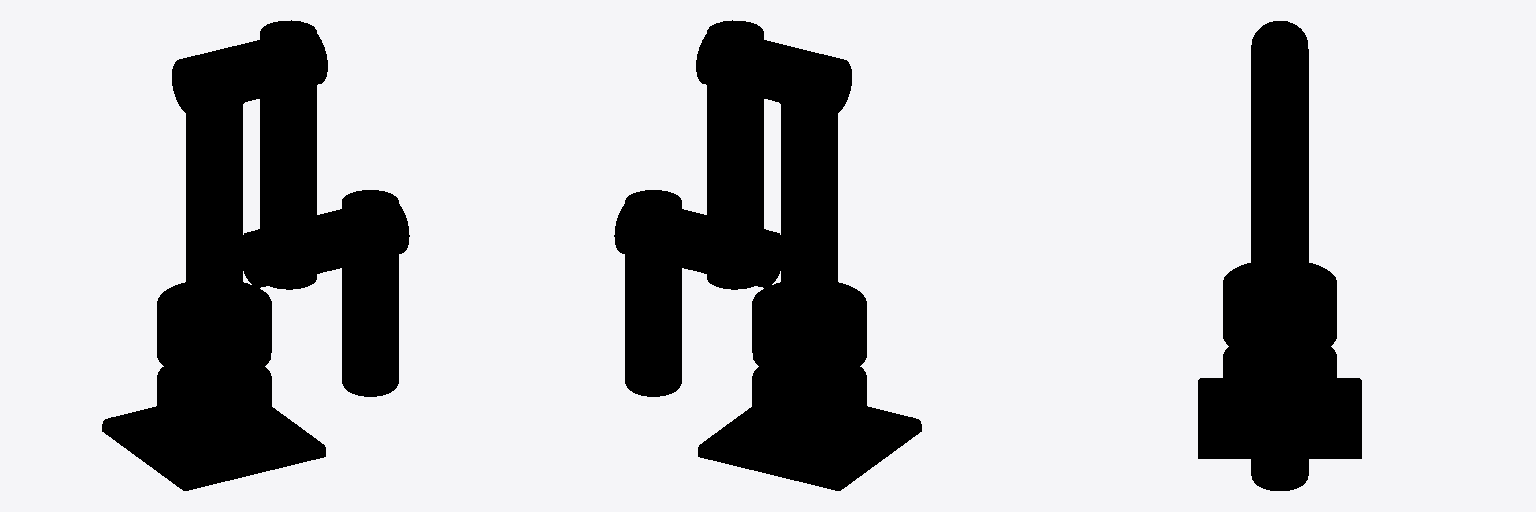
robot.urdf — manipulator:
<?xml version="1.0" encoding="utf-8"?>
<!-- This URDF was automatically created by SolidWorks to URDF Exporter! Originally created by Stephen Brawner ([email redacted]) 
     Commit Version: 1.6.0-1-g15f4949  Build Version: 1.6.7594.29634
     For more information, please see http://wiki.ros.org/sw_urdf_exporter -->
<robot
  name="manipulator">
  <link
    name="base_link">
    <inertial>
      <origin
        xyz="-8.9967E-18 0.082909 3.663E-20"
        rpy="0 0 0" />
      <mass
        value="3.2518" />
      <inertia
        ixx="0.017546"
        ixy="-1.8589E-18"
        ixz="-8.2104E-19"
        iyy="0.010844"
        iyz="3.1978E-20"
        izz="0.017546" />
    </inertial>
    <visual>
      <origin
        xyz="0 0 0"
        rpy="0 0 0" />
      <geometry>
        <mesh
          filename="package://manipulator/meshes/base_link.STL" />
      </geometry>
      <material
        name="">
        <color
          rgba="0 0 0 1" />
      </material>
    </visual>
    <collision>
      <origin
        xyz="0 0 0"
        rpy="0 0 0" />
      <geometry>
        <mesh
          filename="package://manipulator/meshes/base_link.STL" />
      </geometry>
    </collision>
  </link>
  <link
    name="link1">
    <inertial>
      <origin
        xyz="6.2597E-09 0.17473 -0.00017925"
        rpy="0 0 0" />
      <mass
        value="1.3146" />
      <inertia
        ixx="0.012676"
        ixy="-1.1495E-12"
        ixz="9.8141E-10"
        iyy="0.00089209"
        iyz="2.9519E-05"
        izz="0.012621" />
    </inertial>
    <visual>
      <origin
        xyz="0 0 0"
        rpy="0 0 0" />
      <geometry>
        <mesh
          filename="package://manipulator/meshes/link1.STL" />
      </geometry>
      <material
        name="">
        <color
          rgba="0 0 0 1" />
      </material>
    </visual>
    <collision>
      <origin
        xyz="0 0 0"
        rpy="0 0 0" />
      <geometry>
        <mesh
          filename="package://manipulator/meshes/link1.STL" />
      </geometry>
    </collision>
  </link>
  <joint
    name="joint0"
    type="continuous">
    <origin
      xyz="0 0 0.19"
      rpy="1.5708 0 1.5708" />
    <parent
      link="base_link" />
    <child
      link="link1" />
    <axis
      xyz="0 1 0" />
  </joint>
  <link
    name="link2">
    <inertial>
      <origin
        xyz="0.090667 -0.12397 2.5675E-07"
        rpy="0 0 0" />
      <mass
        value="1.5823" />
      <inertia
        ixx="0.01719"
        ixy="0.00076592"
        ixz="3.3275E-10"
        iyy="0.0014992"
        iyz="2.4054E-09"
        izz="0.017664" />
    </inertial>
    <visual>
      <origin
        xyz="0 0 0"
        rpy="0 0 0" />
      <geometry>
        <mesh
          filename="package://manipulator/meshes/link2.STL" />
      </geometry>
      <material
        name="">
        <color
          rgba="0 0 0 1" />
      </material>
    </visual>
    <collision>
      <origin
        xyz="0 0 0"
        rpy="0 0 0" />
      <geometry>
        <mesh
          filename="package://manipulator/meshes/link2.STL" />
      </geometry>
    </collision>
  </link>
  <joint
    name="joint1"
    type="continuous">
    <origin
      xyz="0 0.3 0.01"
      rpy="0 -1.5708 0" />
    <parent
      link="link1" />
    <child
      link="link2" />
    <axis
      xyz="1 0 0" />
  </joint>
  <link
    name="link3">
    <inertial>
      <origin
        xyz="0.08919 -0.071986 3.5323E-08"
        rpy="0 0 0" />
      <mass
        value="1.1233" />
      <inertia
        ixx="0.0063484"
        ixy="0.00046983"
        ixz="-1.0835E-09"
        iyy="0.0010023"
        iyz="-5.3698E-10"
        izz="0.006642" />
    </inertial>
    <visual>
      <origin
        xyz="0 0 0"
        rpy="0 0 0" />
      <geometry>
        <mesh
          filename="package://manipulator/meshes/link3.STL" />
      </geometry>
      <material
        name="">
        <color
          rgba="0 0 0 1" />
      </material>
    </visual>
    <collision>
      <origin
        xyz="0 0 0"
        rpy="0 0 0" />
      <geometry>
        <mesh
          filename="package://manipulator/meshes/link3.STL" />
      </geometry>
    </collision>
  </link>
  <joint
    name="joint2"
    type="continuous">
    <origin
      xyz="0.115 -0.255 0"
      rpy="0 0 0" />
    <parent
      link="link2" />
    <child
      link="link3" />
    <axis
      xyz="1 0 0" />
  </joint>
</robot>

--- What the picture shows (computed from the rendered views, not written in the file) ---
The picture shows the robot from 3 angles, left to right: view 1: azimuth 30°, elevation 25°; view 2: azimuth 150°, elevation 25°; view 3: azimuth 270°, elevation 25°; orthographic projection.
Model manipulator with 4 links and 3 joints (3 continuous), rooted at base_link, posed all joints at 0.
Visible links, largest first — view 1: base_link, link2, link1, link3; view 2: base_link, link2, link1, link3; view 3: base_link, link2, link3, link1.
Boxes of the visible links, box(x1,y1,x2,y2) form: base_link: box(102, 282, 325, 490); link2: box(237, 20, 338, 289); link1: box(172, 46, 256, 314); link3: box(320, 190, 409, 396); base_link: box(698, 282, 921, 490); link2: box(685, 20, 785, 289); link1: box(767, 45, 851, 314); link3: box(614, 190, 703, 396); base_link: box(1198, 263, 1361, 458); link2: box(1251, 48, 1308, 295); link3: box(1251, 278, 1308, 490); link1: box(1251, 21, 1308, 65).
Bounding box of the posed robot: 0.355 × 0.2 × 0.53 m (x, y, z).
4 mesh visuals loaded from 4 distinct referenced files (4 binary STL).
